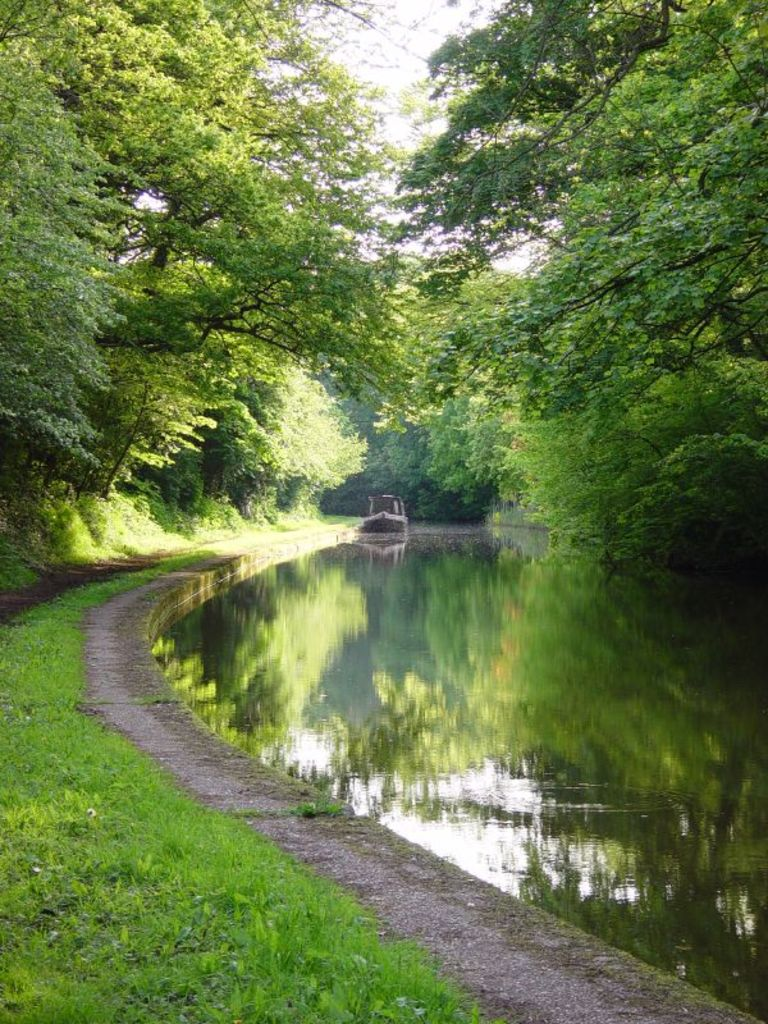Tree: (0, 0, 418, 548), (393, 0, 768, 598)
